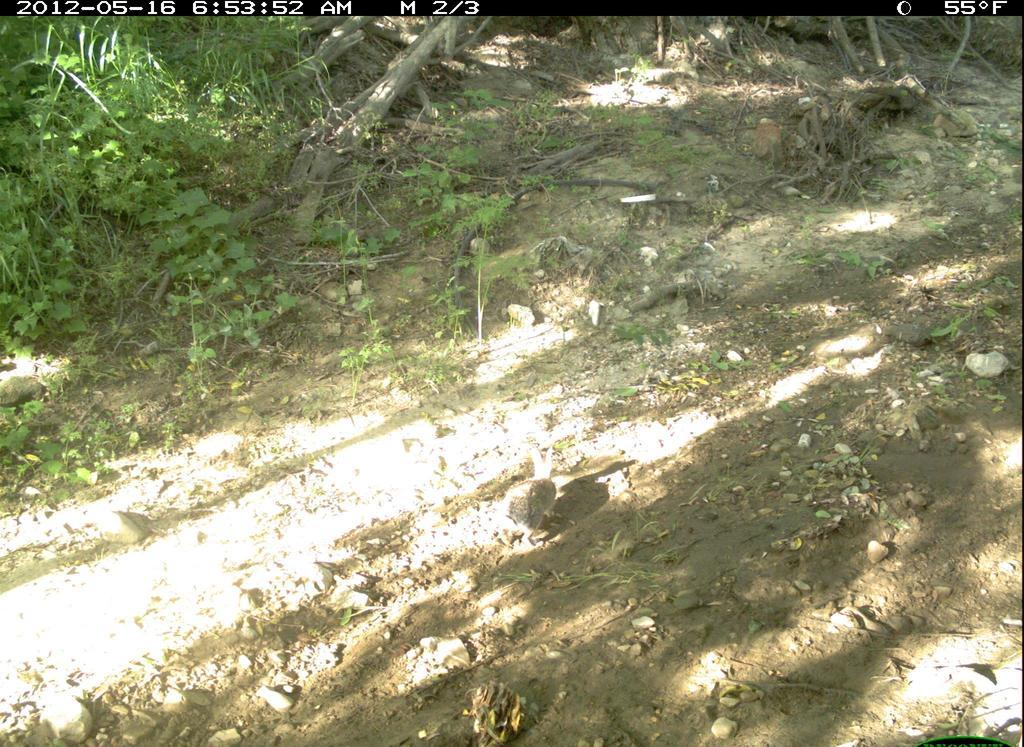rabbit: (487, 443, 591, 559)
